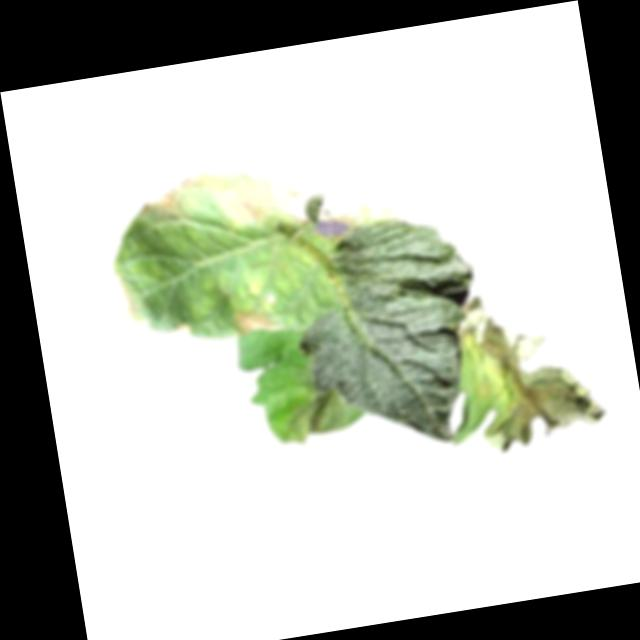Late_blight: (453, 276, 610, 456), (223, 167, 312, 233), (136, 170, 217, 229), (280, 386, 352, 448), (228, 301, 279, 337), (114, 271, 140, 327), (174, 320, 195, 341)
healthy: (283, 210, 497, 462)
